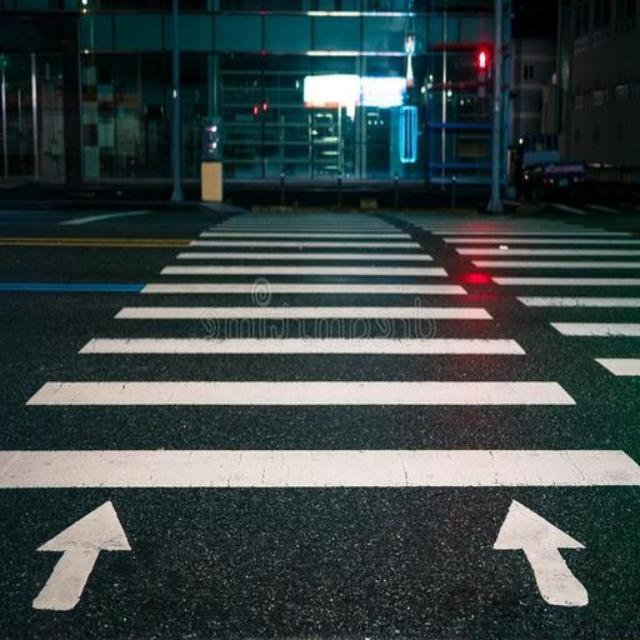sidewalk: (0, 208, 640, 640)
